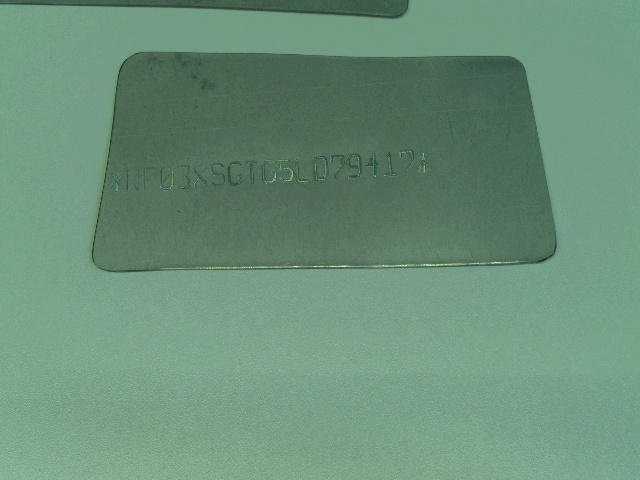0: (158, 165, 177, 191)
1: (381, 151, 398, 180)
3: (177, 164, 193, 190)
4: (364, 151, 381, 180)
5: (277, 157, 294, 182)
7: (398, 149, 416, 177), (330, 153, 346, 180)
9: (346, 153, 364, 180)
d: (311, 154, 329, 182)
f: (141, 165, 156, 190)
g: (226, 159, 245, 186), (260, 158, 278, 185)
l: (293, 158, 310, 184)
s: (211, 162, 226, 187)
t: (244, 158, 260, 186)
w: (124, 166, 141, 192)
x: (192, 165, 209, 189)
